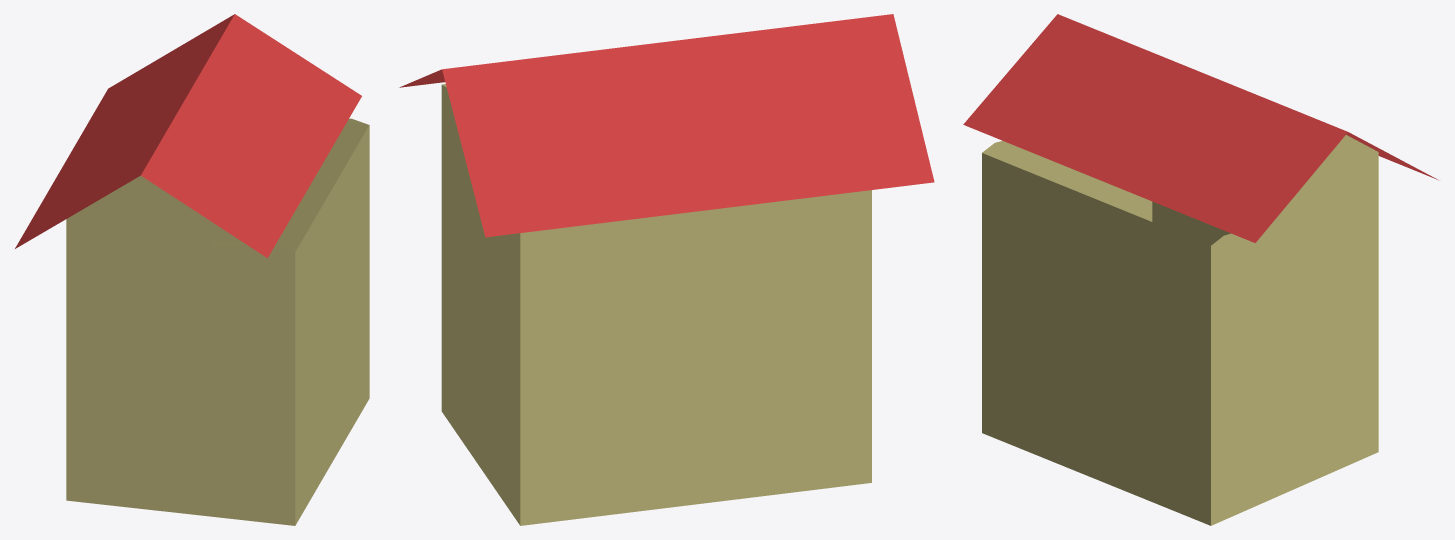
3 views of the same model, side by side, from view 1: azimuth 30°, elevation 25°; view 2: azimuth 150°, elevation 25°; view 3: azimuth 270°, elevation 25° (orthographic). The views are drawn at different scales.
Size of the model in its own units: 8.05 by 8.16 by 6.79.
